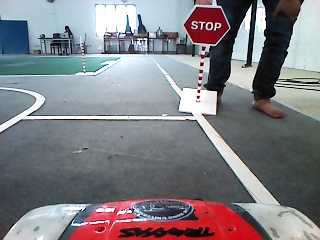stop: (181, 2, 232, 51)
